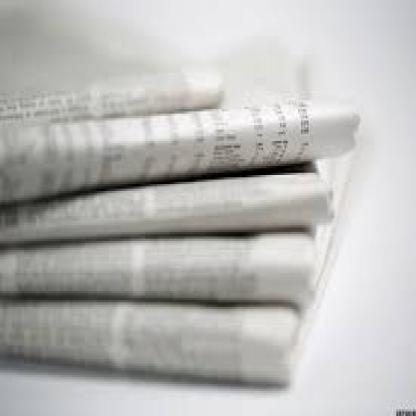paper: (0, 98, 359, 200), (0, 293, 335, 389), (0, 168, 341, 241), (0, 241, 324, 314), (0, 70, 226, 123)
